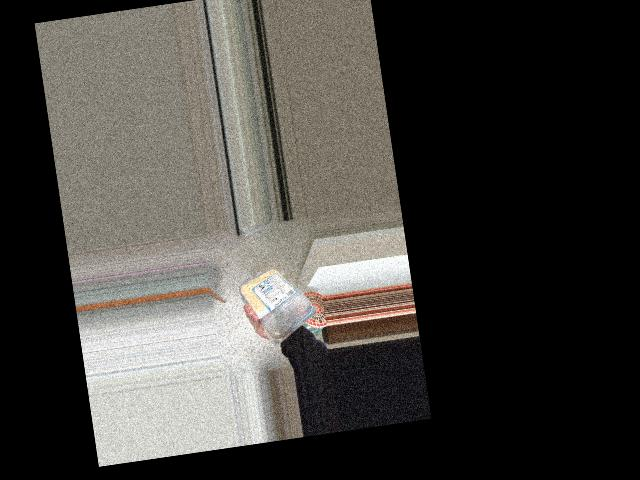cheese: (241, 259, 321, 330)
